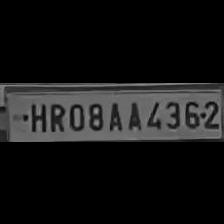0: (65, 99, 85, 130)
2: (200, 96, 220, 128)
3: (162, 97, 180, 129)
4: (144, 96, 162, 130)
6: (182, 96, 200, 128)
8: (86, 99, 106, 131)
A: (106, 97, 126, 130), (124, 98, 142, 130)
H: (25, 100, 47, 132)
R: (46, 100, 64, 132)
